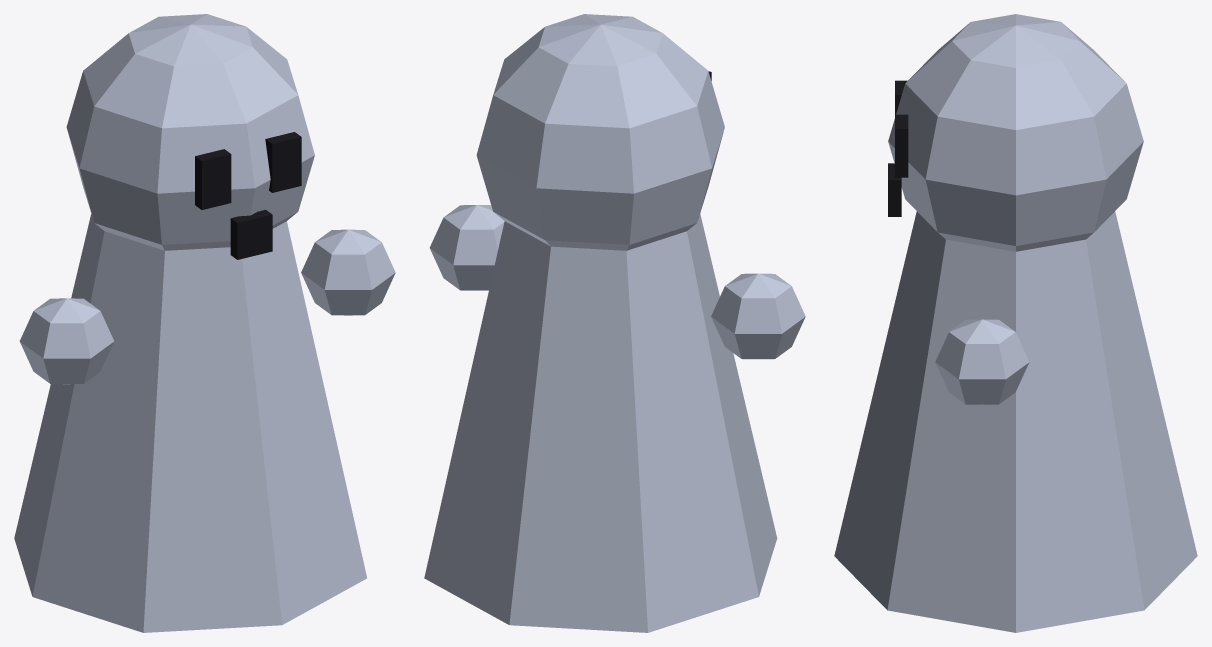
Rendered from e_ghost.fbx.
3 renders of one model, left to right at view 1: azimuth 30°, elevation 25°; view 2: azimuth 150°, elevation 25°; view 3: azimuth 270°, elevation 25°, orthographic.
Visible parts, largest first — view 1: e_ghost_Body; view 2: e_ghost_Body; view 3: e_ghost_Body.
Boxes of the visible parts, bbox=[...] form: e_ghost_Body: bbox=[14, 14, 395, 632]; e_ghost_Body: bbox=[424, 14, 805, 632]; e_ghost_Body: bbox=[834, 14, 1197, 632].
Size of the model in its own units: 0.6012 by 0.87 by 0.54.
